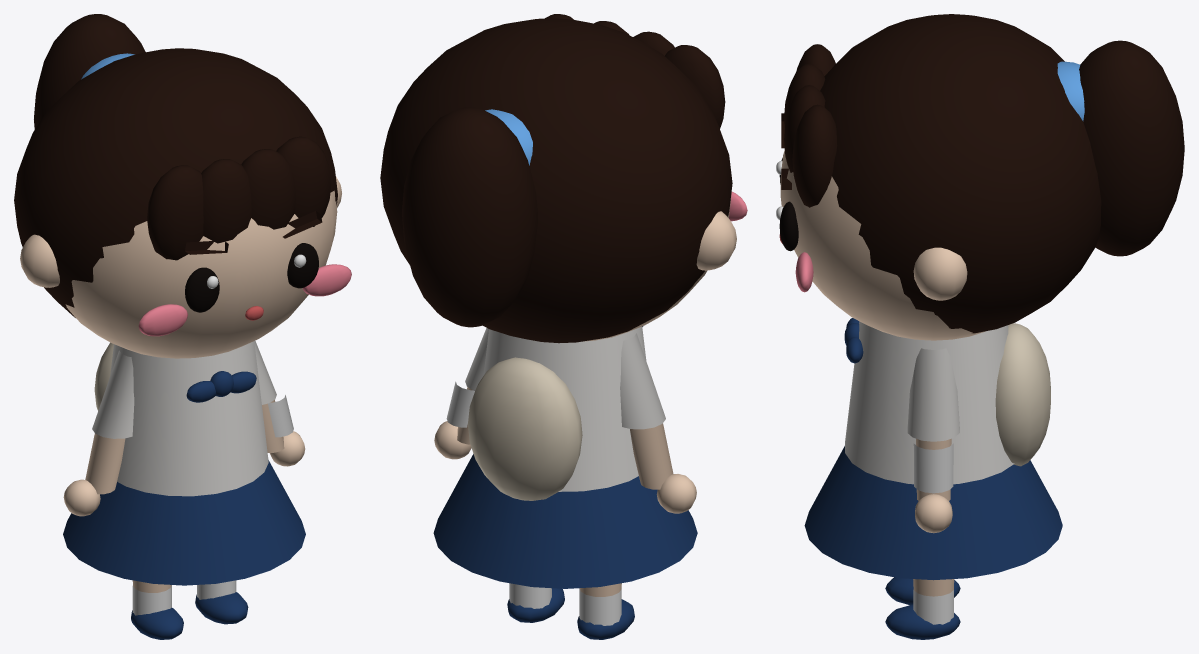
File: lihua.glb
3 views of the same model, side by side, from view 1: azimuth 30°, elevation 25°; view 2: azimuth 150°, elevation 25°; view 3: azimuth 270°, elevation 25° (orthographic). The views are drawn at different scales.
Parts seen in each view (by area): view 1: ClayAsset; view 2: ClayAsset; view 3: ClayAsset.
Boxes of the visible parts, x1=… form: ClayAsset: x1=14, y1=14, x2=351, y2=639; ClayAsset: x1=380, y1=14, x2=747, y2=639; ClayAsset: x1=776, y1=14, x2=1184, y2=639.
Bounding box in the file's own units: 1.08 × 1.81 × 1.14.
